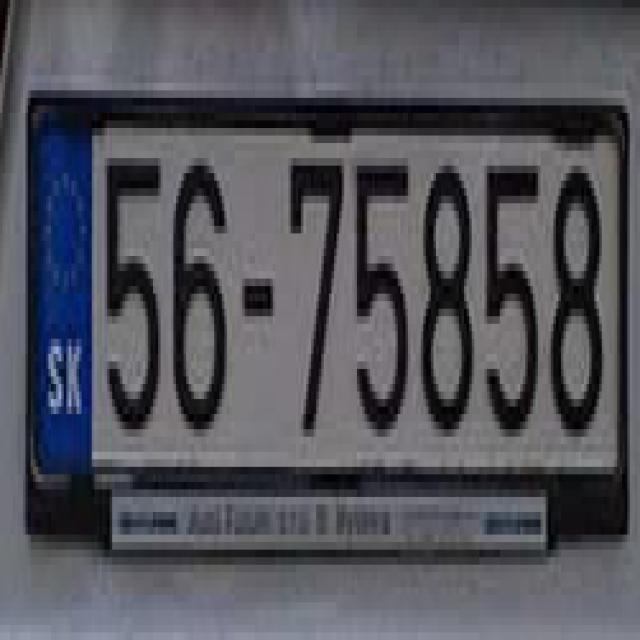EU: (30, 89, 630, 508)
Slovaquie: (35, 106, 95, 468)
